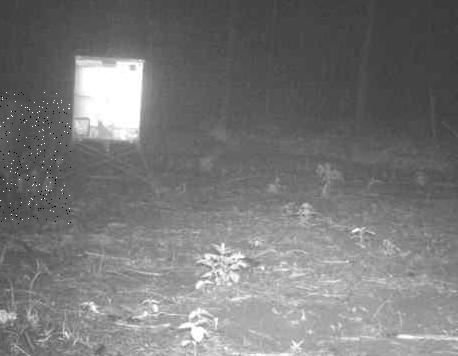Hog: (0, 91, 71, 224)
